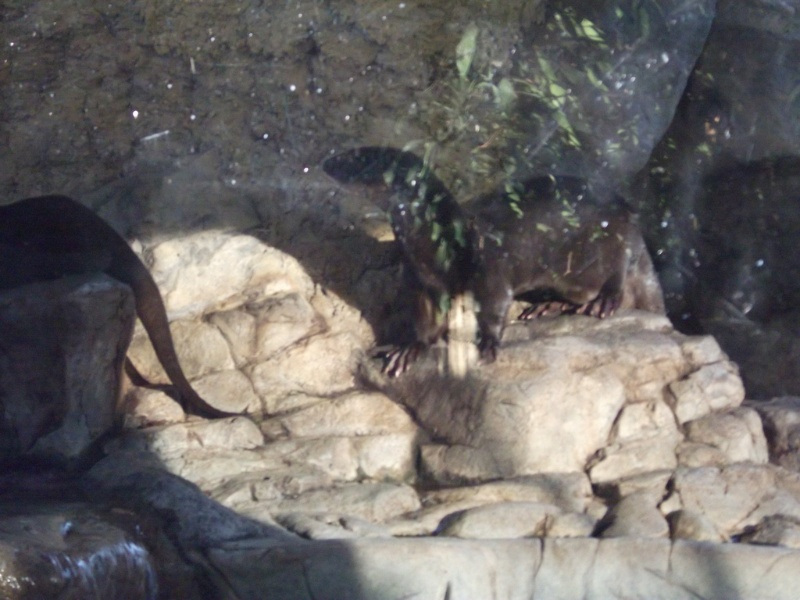minkish: (318, 137, 626, 368)
